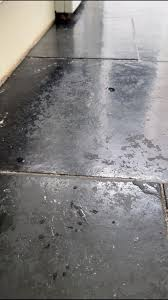Wet-floor: (0, 44, 168, 269)
